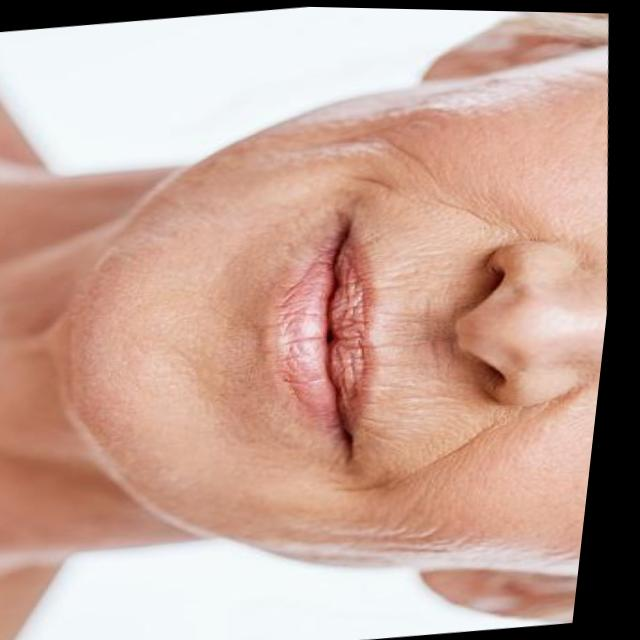Wrinkles: (323, 132, 531, 239), (336, 413, 525, 492), (348, 173, 425, 200)
